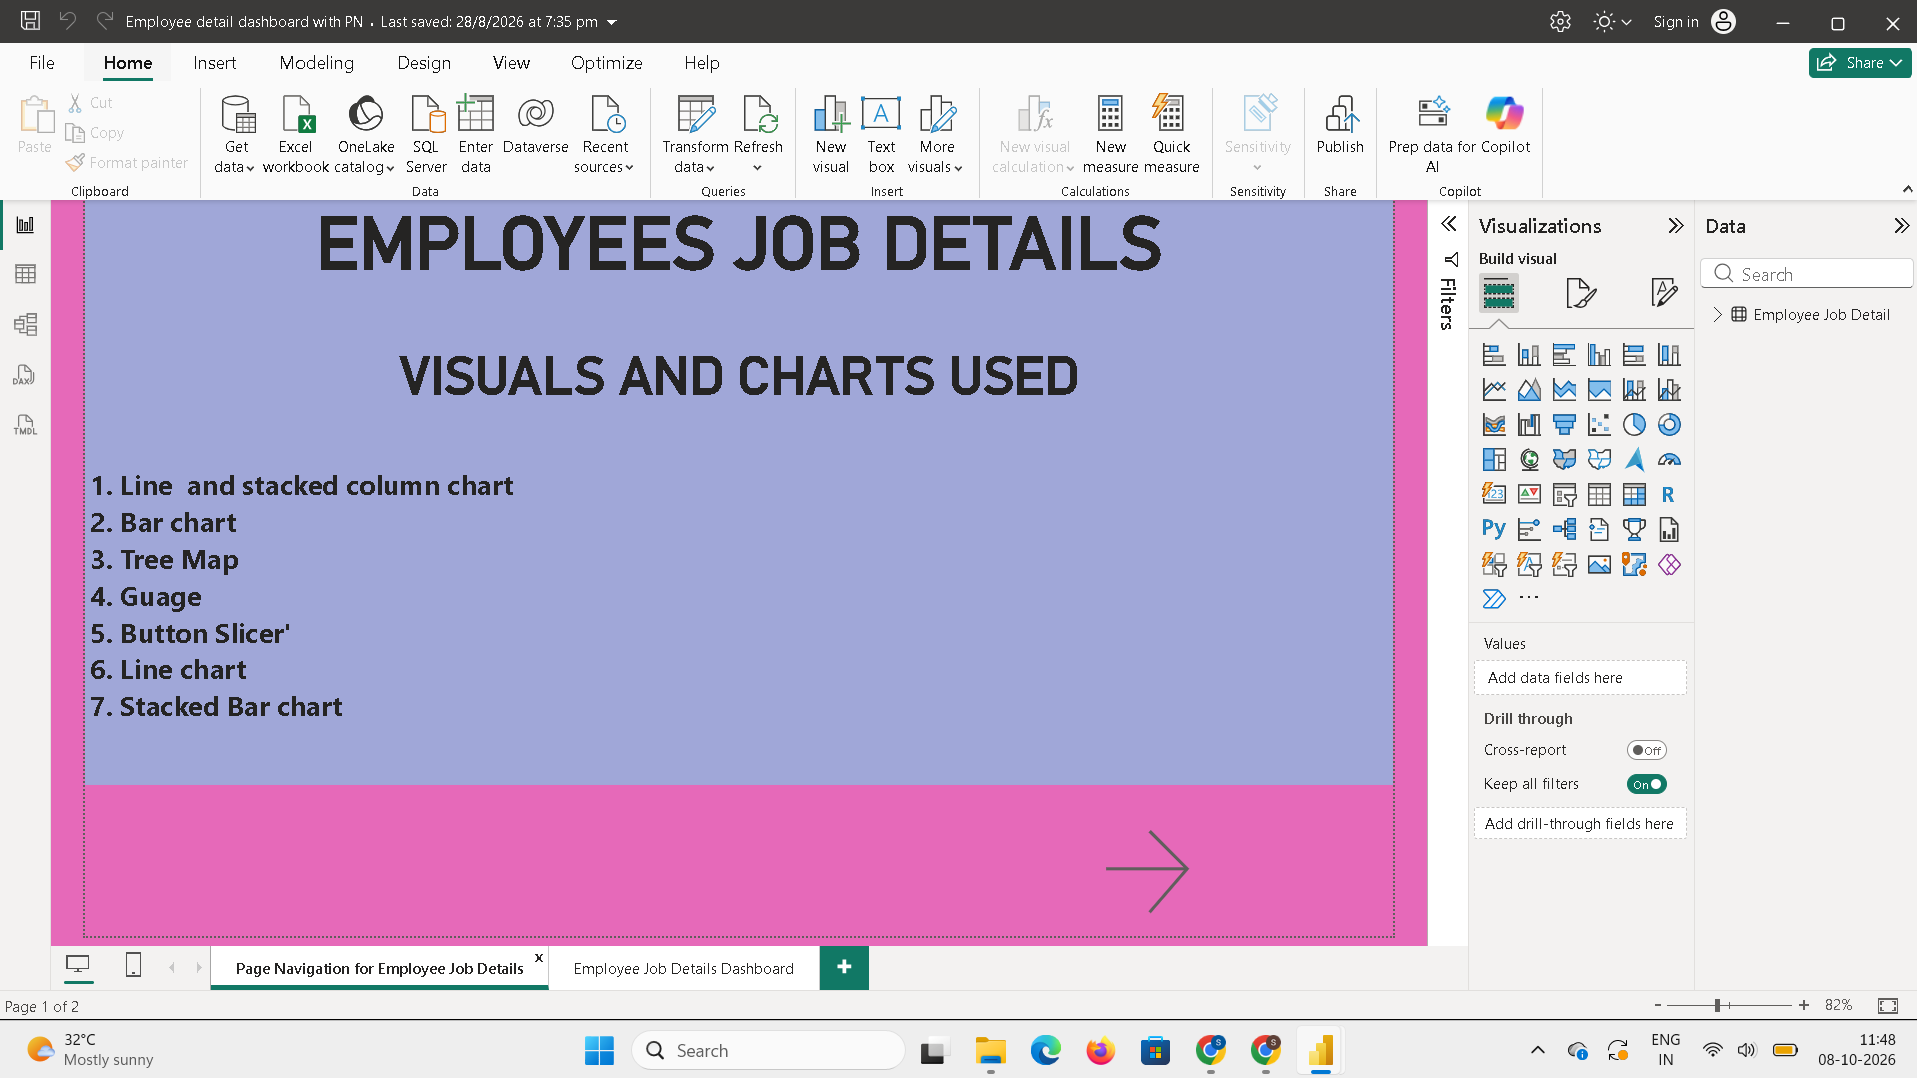

The dashboard page shown, as its layout file describes it:
{"tool":"powerbi","page":{"name":"Page Navigation for Employee  Job Details","canvas":[1280,720],"ordinal":0},"visuals":[{"type":"textbox","title":"EMPLOYEES JOB DETAILS","box":[0,0,1280,280.9],"z":0},{"type":"actionButton","box":[988.9,607.7,233.2,98.7],"z":1000},{"type":"textbox","title":"VISUALS AND CHARTS USED","box":[0,141.3,1280,430.6],"z":2000}]}

Visuals, with their boxes on the page's 1280x720 design canvas (x1, y1, x2, y2). These are canvas units, not pixel positions in the 1917x1078 screenshot, which may show the page scaled, cropped or inside an application window:
"EMPLOYEES JOB DETAILS" textbox: 0 0 1280 281
actionButton: 989 608 1222 706
"VISUALS AND CHARTS USED" textbox: 0 141 1280 572
